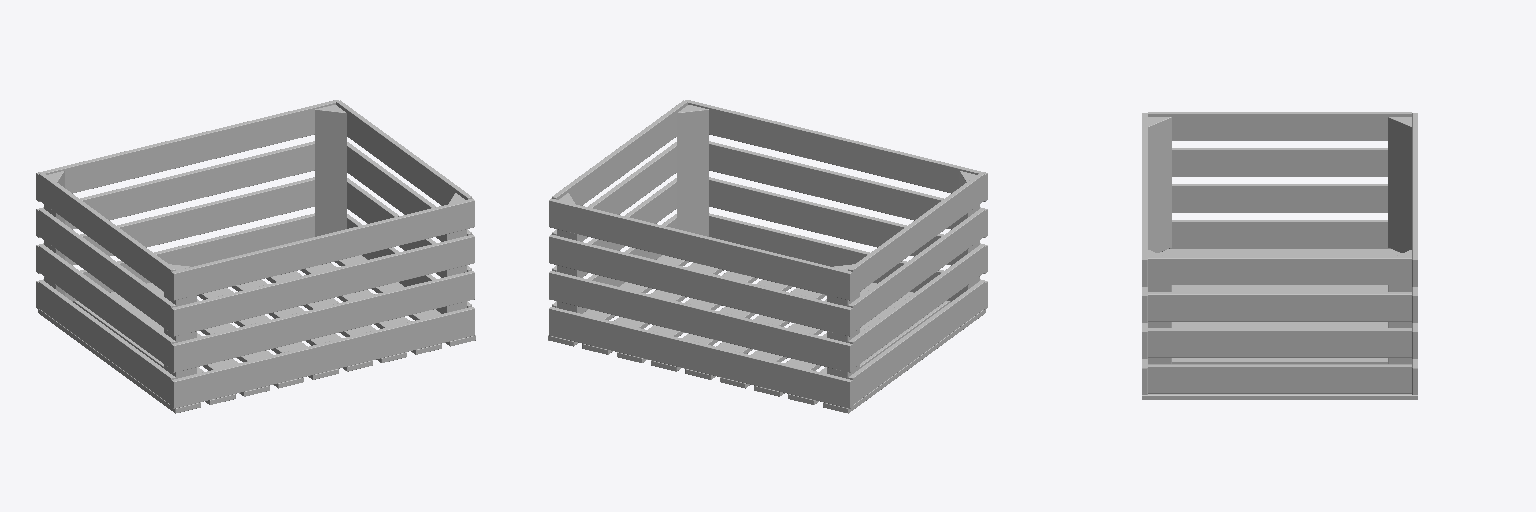
3 views of the same model, side by side, from view 1: azimuth 30°, elevation 25°; view 2: azimuth 150°, elevation 25°; view 3: azimuth 270°, elevation 25° (orthographic).
Visible parts, largest first — view 1: Объект_Куб_7, Объект_Куб_6, Объект_Куб_5, Объект_Куб_4, Объект_Куб_3, Объект_Куб_2, Объект_Куб_1, Выдавливание.1, Объект_Куб, Объект_Куб_0, Объект_Куб_7_1, Объект_Куб_4_1 (+6 smaller); view 2: Объект_Куб_7, Объект_Куб_6, Объект_Куб_5, Объект_Куб_4, Объект_Куб_3, Объект_Куб_2, Объект_Куб_1, Выдавливание.1, Объект_Куб, Объект_Куб_0, Объект_Куб_7_1, Объект_Куб_4_1 (+6 smaller); view 3: Объект_Куб, Объект_Куб_1, Объект_Куб_2, Объект_Куб_3, Выдавливание.1, Объект_Куб_7, Объект_Куб_0, Объект_Куб_8, Объект_Куб_2_1, Объект_Куб_4_1, Объект_Куб_6_1.
Boxes of the visible parts, x1=… form: Объект_Куб_7: x1=36, y1=100, x2=474, y2=300; Объект_Куб_6: x1=36, y1=141, x2=474, y2=336; Объект_Куб_5: x1=36, y1=177, x2=474, y2=372; Объект_Куб_4: x1=36, y1=213, x2=474, y2=408; Объект_Куб_3: x1=39, y1=100, x2=471, y2=296; Объект_Куб_2: x1=39, y1=142, x2=471, y2=332; Объект_Куб_1: x1=39, y1=178, x2=471, y2=368; Выдавливание.1: x1=44, y1=105, x2=466, y2=378; Объект_Куб: x1=39, y1=214, x2=471, y2=404; Объект_Куб_0: x1=38, y1=310, x2=200, y2=413; Объект_Куб_7_1: x1=300, y1=263, x2=441, y2=354; Объект_Куб_4_1: x1=197, y1=288, x2=338, y2=379; Объект_Куб_7: x1=549, y1=100, x2=987, y2=300; Объект_Куб_6: x1=549, y1=141, x2=987, y2=336; Объект_Куб_5: x1=549, y1=177, x2=987, y2=372; Объект_Куб_4: x1=549, y1=213, x2=987, y2=408; Объект_Куб_3: x1=552, y1=100, x2=984, y2=296; Объект_Куб_2: x1=552, y1=142, x2=984, y2=332; Объект_Куб_1: x1=552, y1=178, x2=984, y2=368; Выдавливание.1: x1=557, y1=105, x2=979, y2=378; Объект_Куб: x1=552, y1=214, x2=984, y2=404; Объект_Куб_0: x1=823, y1=310, x2=985, y2=413; Объект_Куб_7_1: x1=582, y1=263, x2=723, y2=354; Объект_Куб_4_1: x1=685, y1=288, x2=826, y2=379; Объект_Куб: x1=1148, y1=220, x2=1411, y2=393; Объект_Куб_1: x1=1148, y1=184, x2=1411, y2=357; Объект_Куб_2: x1=1148, y1=148, x2=1411, y2=321; Объект_Куб_3: x1=1148, y1=112, x2=1411, y2=284; Выдавливание.1: x1=1148, y1=117, x2=1411, y2=363; Объект_Куб_7: x1=1142, y1=113, x2=1417, y2=286; Объект_Куб_0: x1=1158, y1=249, x2=1401, y2=255; Объект_Куб_8: x1=1142, y1=394, x2=1417, y2=399; Объект_Куб_2_1: x1=1172, y1=285, x2=1387, y2=291; Объект_Куб_4_1: x1=1172, y1=322, x2=1387, y2=327; Объект_Куб_6_1: x1=1172, y1=358, x2=1387, y2=363.
Bounding box in the file's own units: 145 × 65.06 × 115.